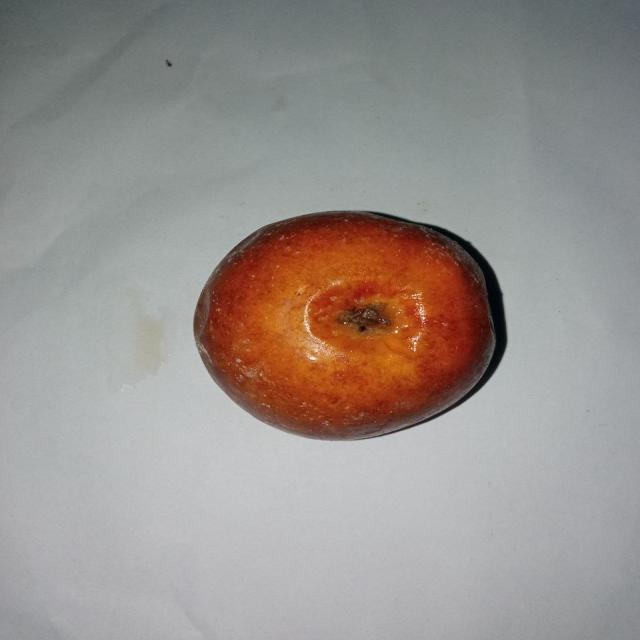rotten_apple: (189, 208, 502, 439)
